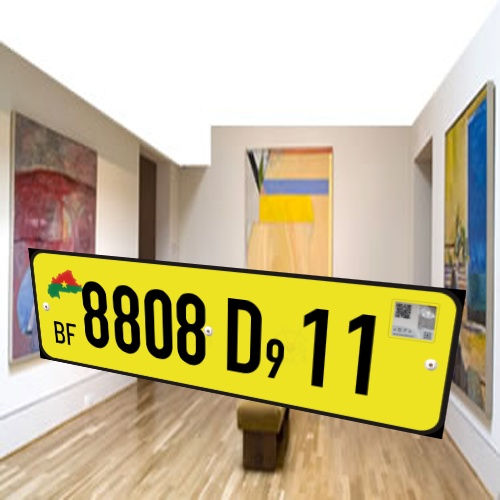plate: (21, 240, 472, 457)
